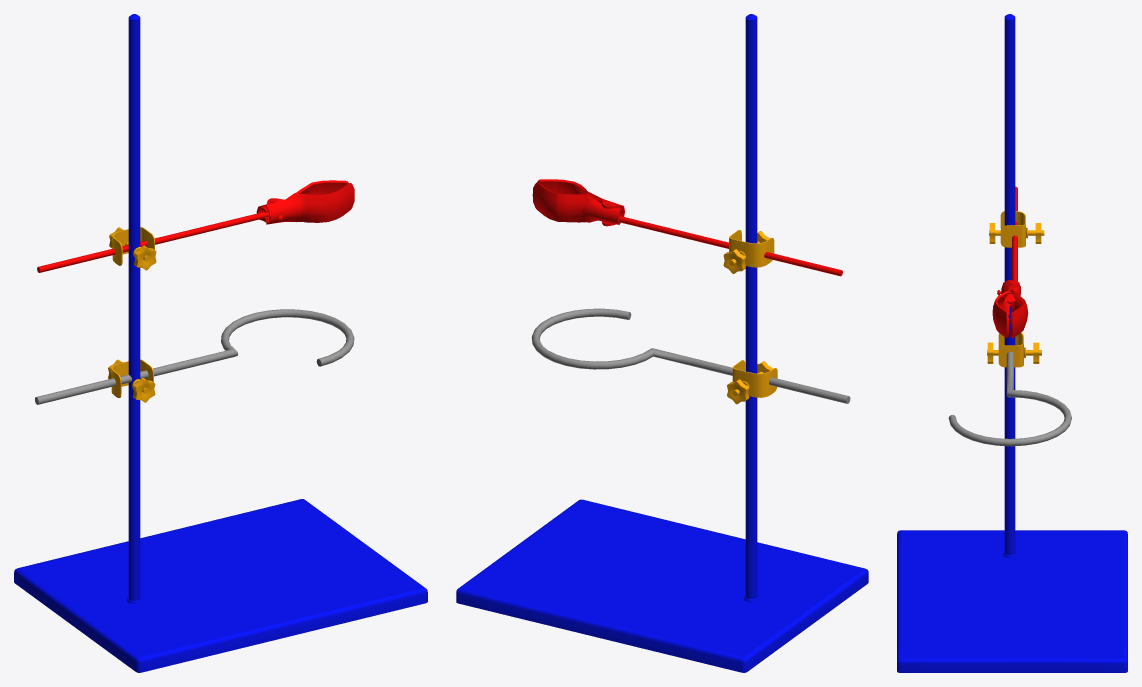
File: 铁架台2.FBX
3 renders of one model, left to right at view 1: azimuth 30°, elevation 25°; view 2: azimuth 150°, elevation 25°; view 3: azimuth 270°, elevation 25°, orthographic. The views are drawn at different scales.
Parts seen in each view (by area): view 1: 底座, Circle001, Box128, Circle004, Star005, Star006, Box131; view 2: 底座, Circle001, Box131, Star006, Star005, Circle004, Box128; view 3: 底座, Circle001, Star005, Star006, Box128, Box131, Circle004.
Boxes of the visible parts, x1,y1,x2,y2 form: 底座: [14, 14, 427, 672]; Circle001: [35, 309, 354, 404]; Box128: [266, 183, 354, 224]; Circle004: [37, 199, 282, 272]; Star005: [109, 227, 156, 270]; Star006: [108, 359, 155, 402]; Box131: [256, 180, 348, 222]; 底座: [456, 14, 868, 672]; Circle001: [531, 308, 850, 403]; Box131: [532, 182, 622, 224]; Star006: [727, 360, 777, 404]; Star005: [723, 230, 774, 273]; Circle004: [605, 201, 842, 276]; Box128: [537, 179, 624, 226]; 底座: [897, 14, 1127, 672]; Circle001: [948, 351, 1071, 446]; Star005: [989, 211, 1044, 247]; Star006: [987, 332, 1041, 367]; Box128: [992, 279, 1019, 338]; Box131: [1007, 281, 1028, 338]; Circle004: [997, 186, 1017, 295].
Bounding box in the file's own units: 25.38 × 43.92 × 16.63.
